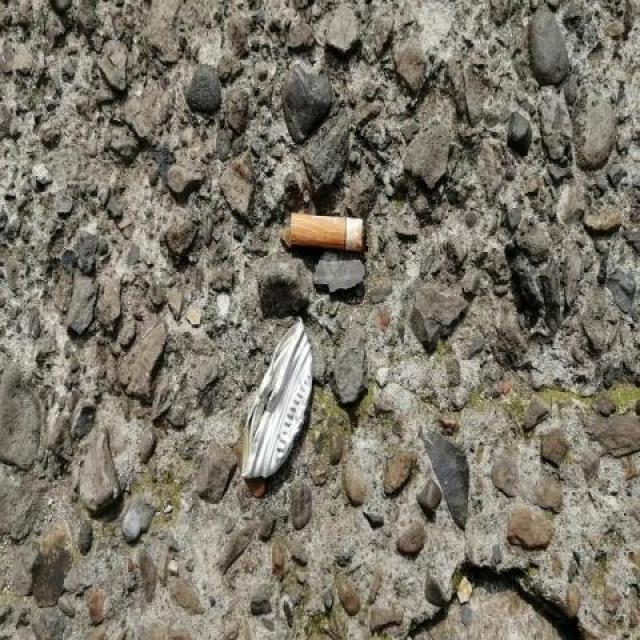non-organic waste: (282, 206, 370, 258)
